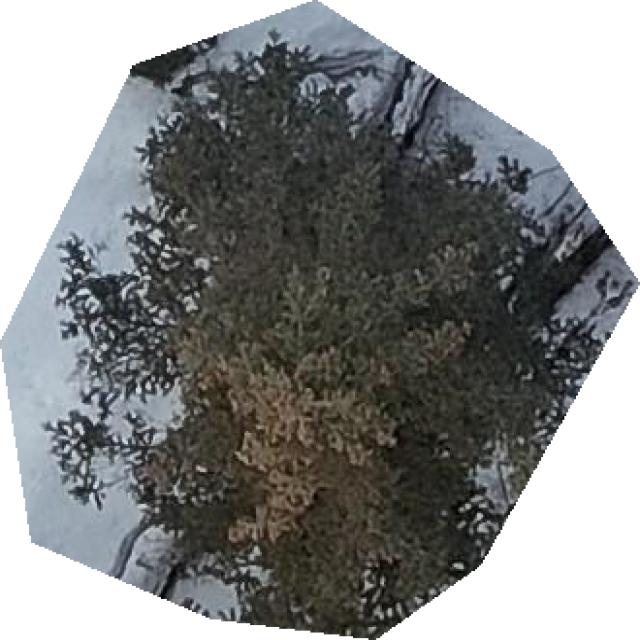fir: (8, 2, 638, 638)
